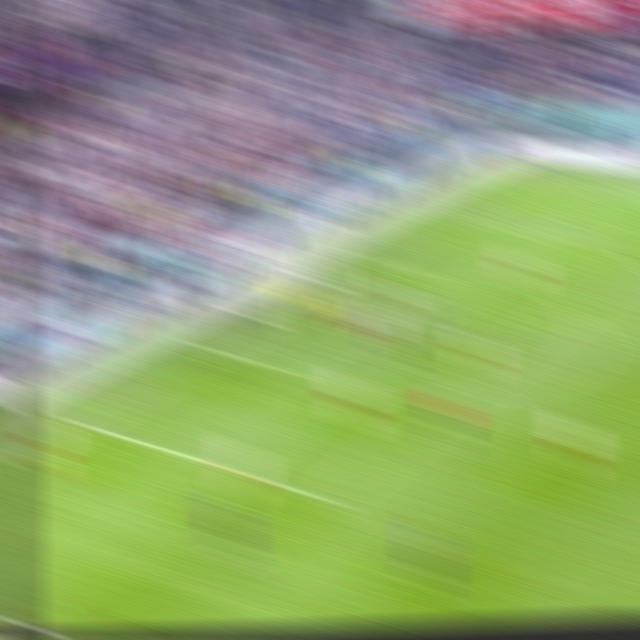bigarea_bottom_inner: (309, 487, 345, 512)
bigarea_bottom_outter: (57, 411, 92, 434)
bigarea_top_outter: (427, 210, 461, 225)
bottom_arc_area_intersection: (443, 387, 475, 407)
corner: (508, 167, 541, 180)
smallarea_bottom_inner: (263, 359, 294, 375)
smallarea_bottom_outter: (192, 339, 224, 358)
smallarea_top_inner: (417, 264, 446, 281)
smallarea_top_outter: (352, 252, 384, 266)
top_arc_area_intersection: (556, 299, 587, 322)
